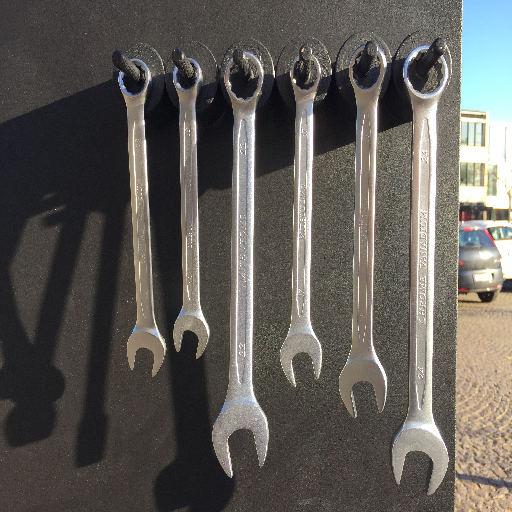bottom: (387, 414, 451, 499), (210, 397, 271, 481), (337, 350, 389, 420), (278, 329, 324, 388), (124, 323, 169, 378), (171, 307, 212, 360)
top: (399, 43, 452, 107), (222, 48, 267, 110), (346, 41, 390, 96), (287, 51, 325, 100), (116, 58, 153, 101), (171, 57, 204, 101)
